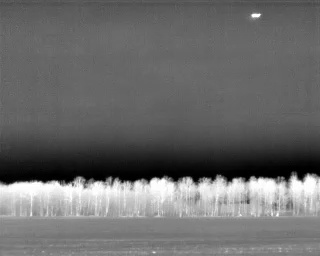DRONE: (247, 9, 265, 24)
